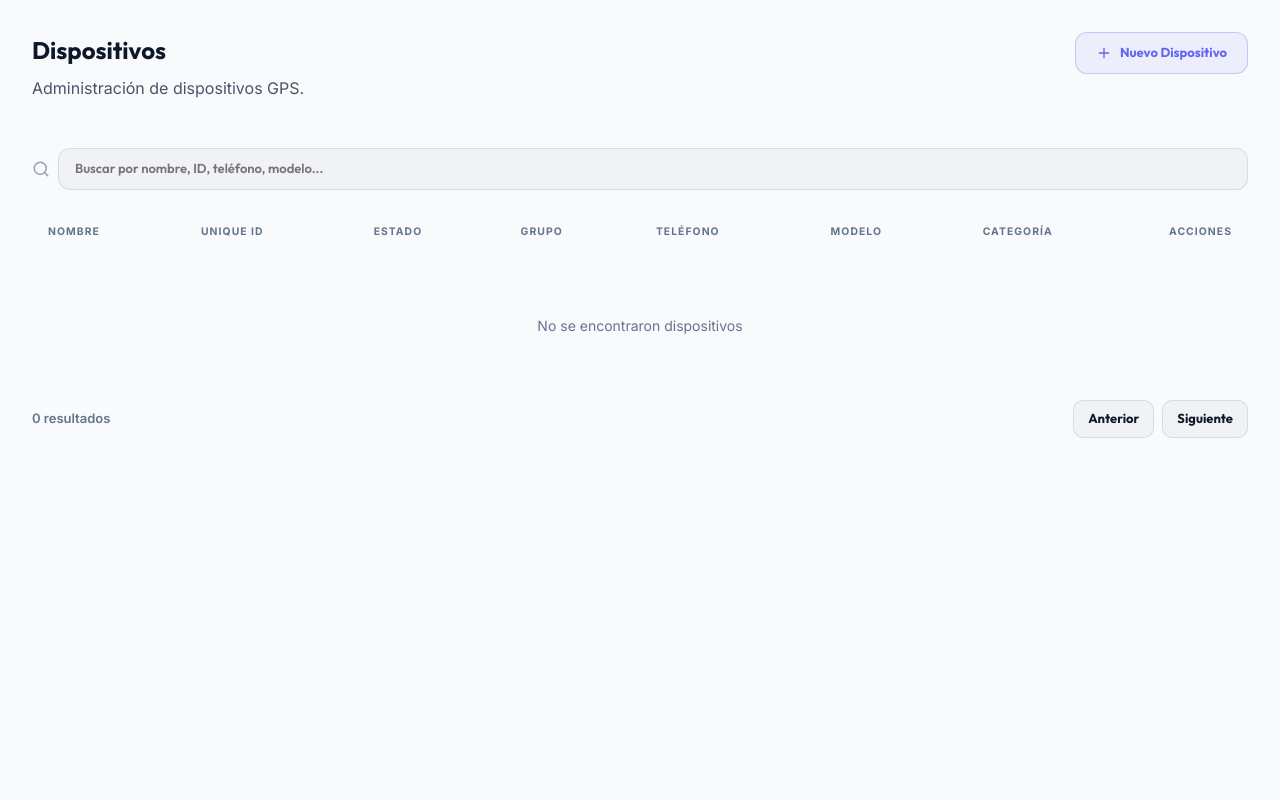
DevicesPage › opens form when clicking add device
The width and height of the screenshot is (1280, 800).
What coordinates should you click on to do the following:
click the button "Nuevo Dispositivo"
I would click on:
 (1162, 53)
Its box is [1075,32,1248,74].
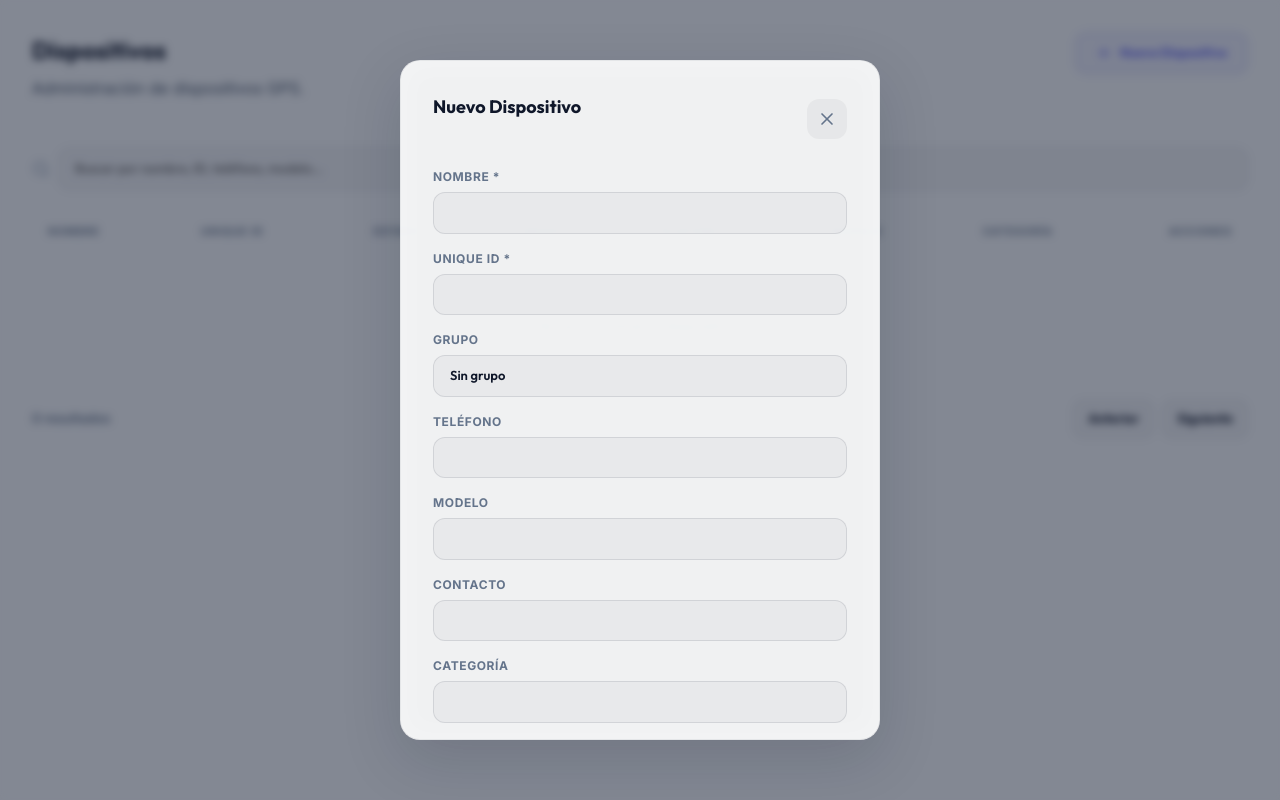
expect the heading "Nuevo Dispositivo" is shown: met, box [433,93,581,120]
